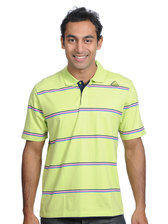clothoes: (19, 61, 148, 218)
